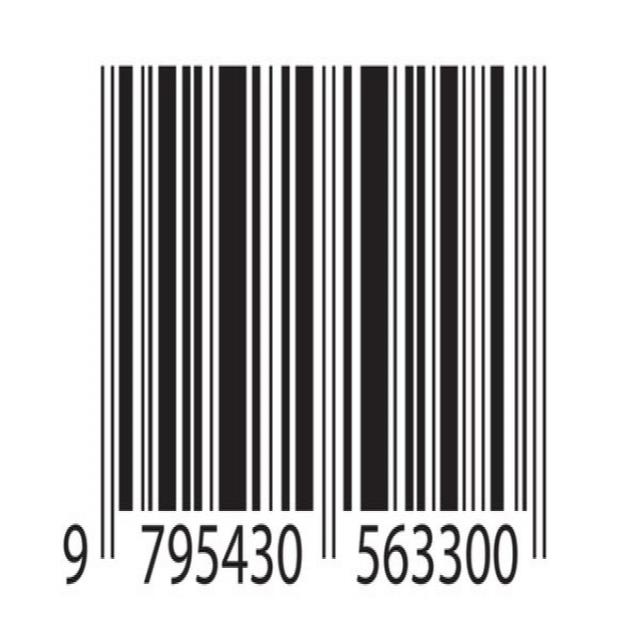Barkod: (53, 48, 564, 598)
